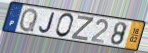2: (89, 18, 109, 45)
8: (110, 21, 128, 46)
J: (38, 12, 56, 35)
O: (54, 13, 74, 39)
Q: (18, 7, 39, 33)
Z: (70, 15, 95, 42)
